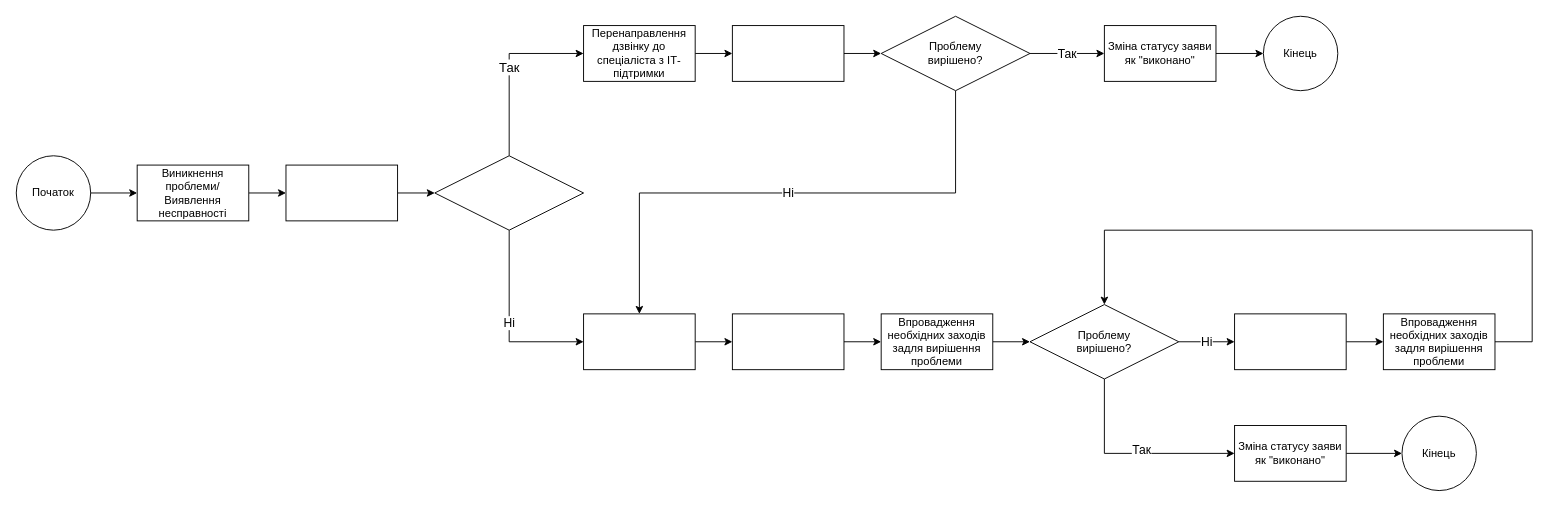
This 1556x507 diagram has some shape labels left out. Each missing label, with the centre of its shape:
Виклик інженера до відповідного відділу підприємства: point 787,341
Дзвінок у відділ ІТ-підтримки: point 341,192
Консультація та допомога з вирішенням питання: point 787,53
Передача задачі інженеру вищого рівня: point 1290,341
Проблему можна вирішити по телефону?: point 509,192
Реєстрація заяви про необхідність технічної підтримки у відділі: point 639,341
